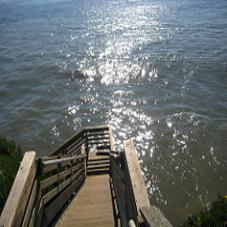Animal: (54, 187, 120, 225)
